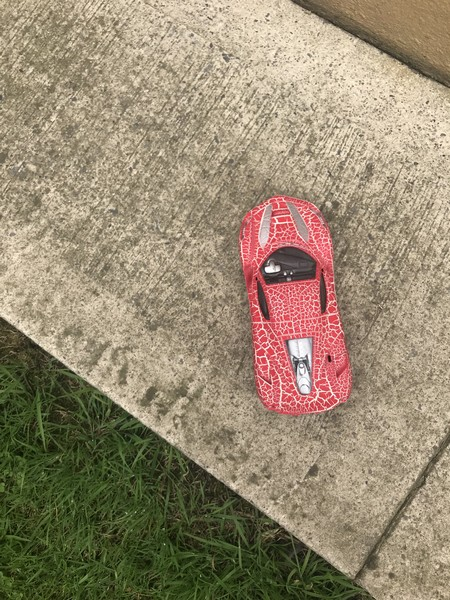RC: (238, 195, 351, 416)
